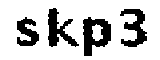3: (118, 4, 148, 50)
k: (43, 5, 78, 50)
p: (82, 14, 111, 60)
s: (12, 17, 42, 49)
